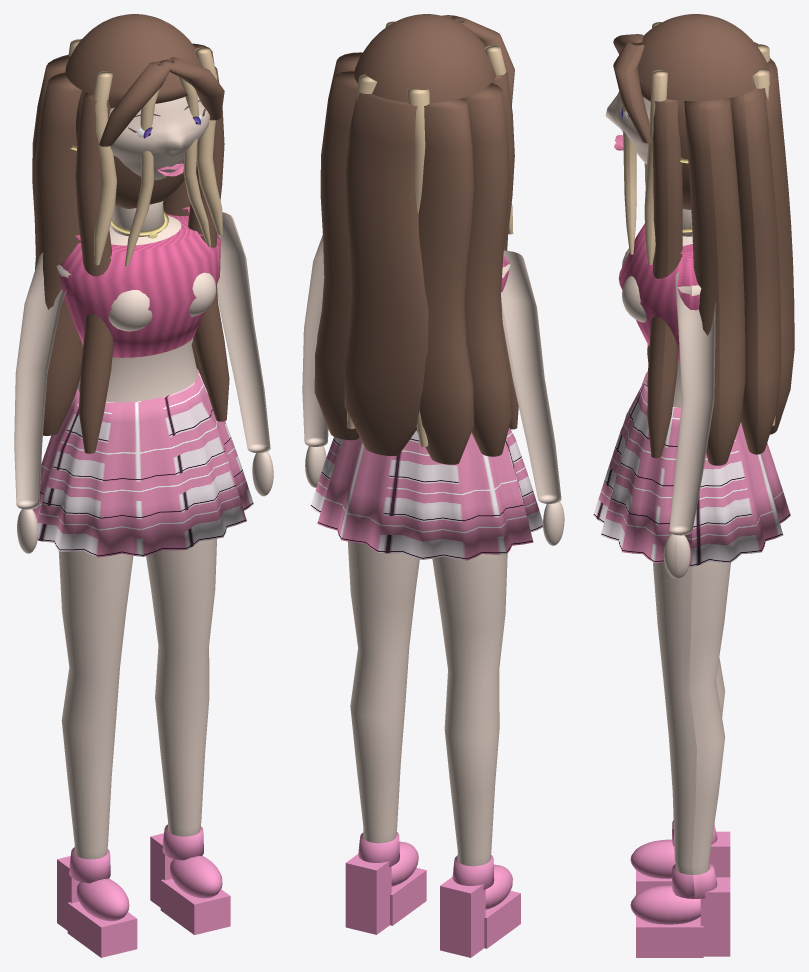
File: muneca.glb
3 renders of one model, left to right at view 1: azimuth 30°, elevation 25°; view 2: azimuth 150°, elevation 25°; view 3: azimuth 270°, elevation 25°, orthographic.
Visible parts, largest first — view 1: Body_Skin, Hair_Main, Outfit_Skirt, Outfit_Shoes, Outfit_Top, Hair_Highlights; view 2: Hair_Main, Body_Skin, Outfit_Skirt, Outfit_Shoes, Hair_Highlights; view 3: Hair_Main, Body_Skin, Outfit_Skirt, Outfit_Shoes, Outfit_Top, Hair_Highlights.
Part boxes in pixels (left/top/right/bottom): Body_Skin: left=14, top=95, right=273, bottom=859; Hair_Main: left=32, top=14, right=229, bottom=453; Outfit_Skirt: left=33, top=368, right=253, bottom=557; Outfit_Shoes: left=57, top=824, right=230, bottom=957; Outfit_Top: left=59, top=207, right=220, bottom=357; Hair_Highlights: left=68, top=39, right=222, bottom=266; Hair_Main: left=314, top=14, right=518, bottom=464; Body_Skin: left=302, top=235, right=564, bottom=866; Outfit_Skirt: left=310, top=427, right=542, bottom=560; Outfit_Shoes: left=345, top=832, right=520, bottom=957; Hair_Highlights: left=347, top=21, right=513, bottom=446; Hair_Main: left=613, top=14, right=794, bottom=465; Body_Skin: left=605, top=91, right=730, bottom=874; Outfit_Skirt: left=593, top=371, right=790, bottom=567; Outfit_Shoes: left=630, top=820, right=730, bottom=957; Outfit_Top: left=618, top=223, right=699, bottom=361; Hair_Highlights: left=622, top=22, right=775, bottom=425.
Bounding box in the file's own units: 0.476 × 1.62 × 0.327.
Materials: 11 (3 with a texture image).
